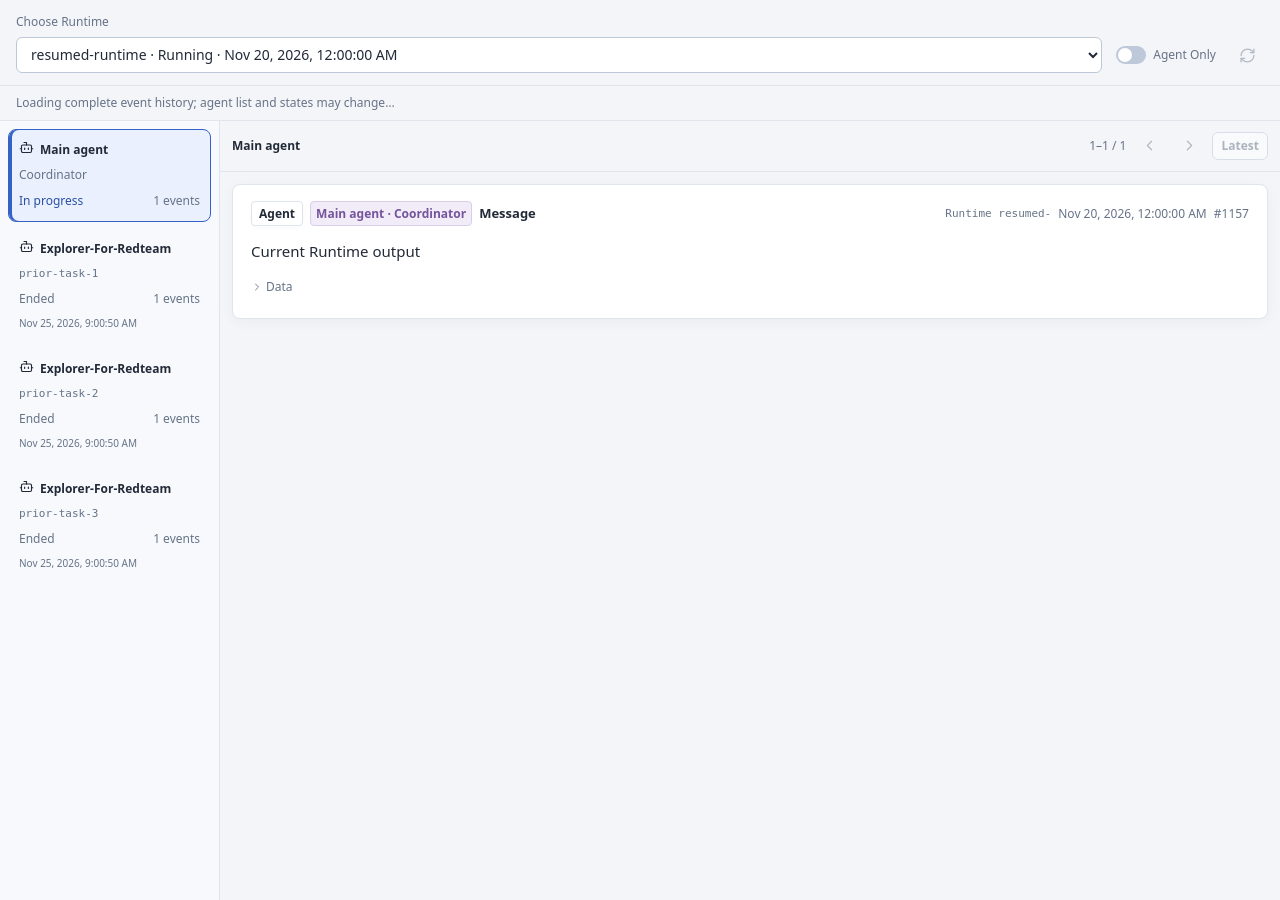
Test case: attributes resume cleanup notifications using cached/backfilled history (cached=true)
Expected: the text "Current Runtime output" is shown, x1=251 y1=241 x2=420 y2=261
Click the button "prior-task-1".
click(110, 285)  # box x1=8 y1=228 x2=211 y2=342
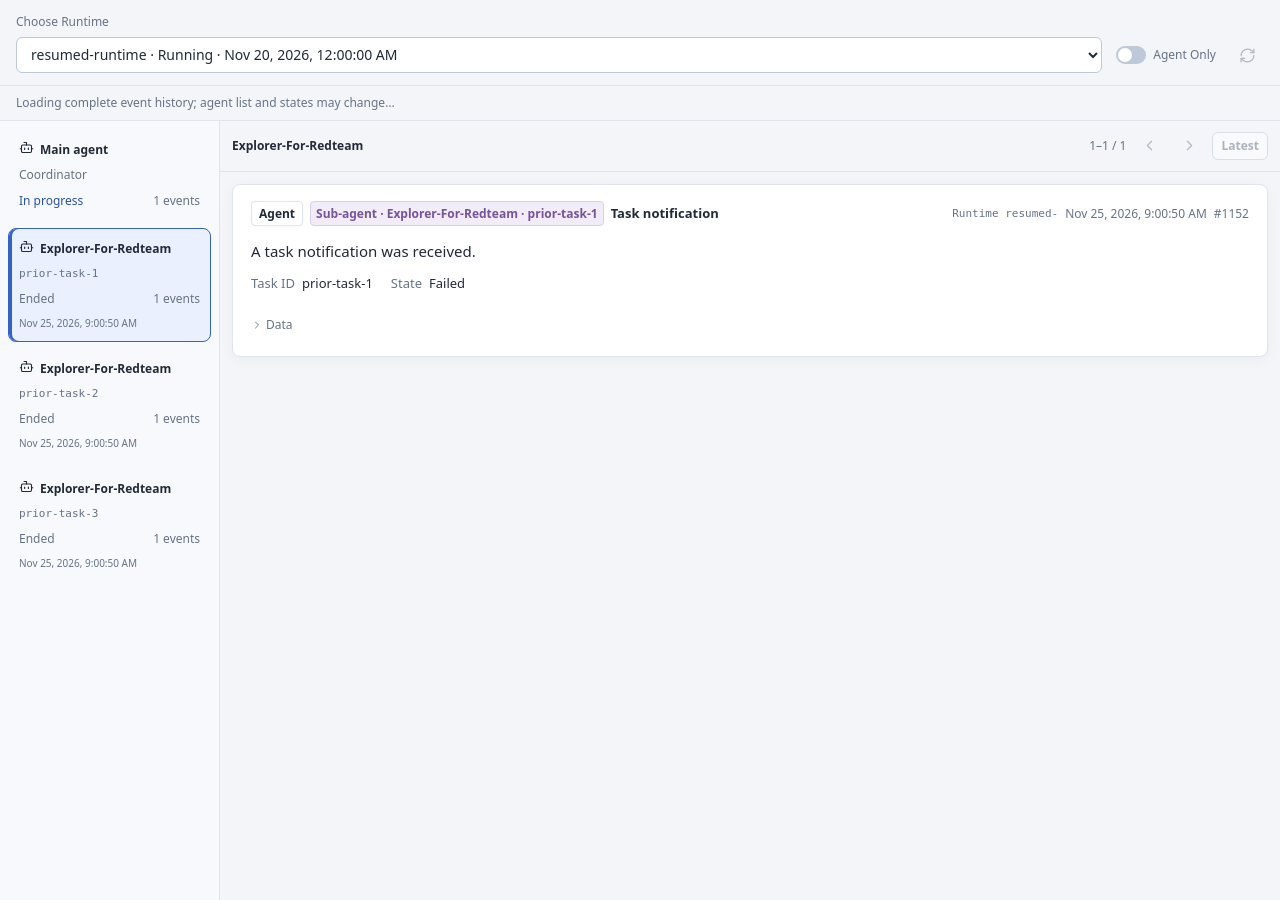
Expected: the number of elements with class "event-row" is 1, x1=232 y1=184 x2=1268 y2=357
Result: the text "Failed" is shown at x1=429 y1=272 x2=465 y2=294
Click the button "prior-task-2".
click(110, 405)  # box x1=8 y1=348 x2=211 y2=462
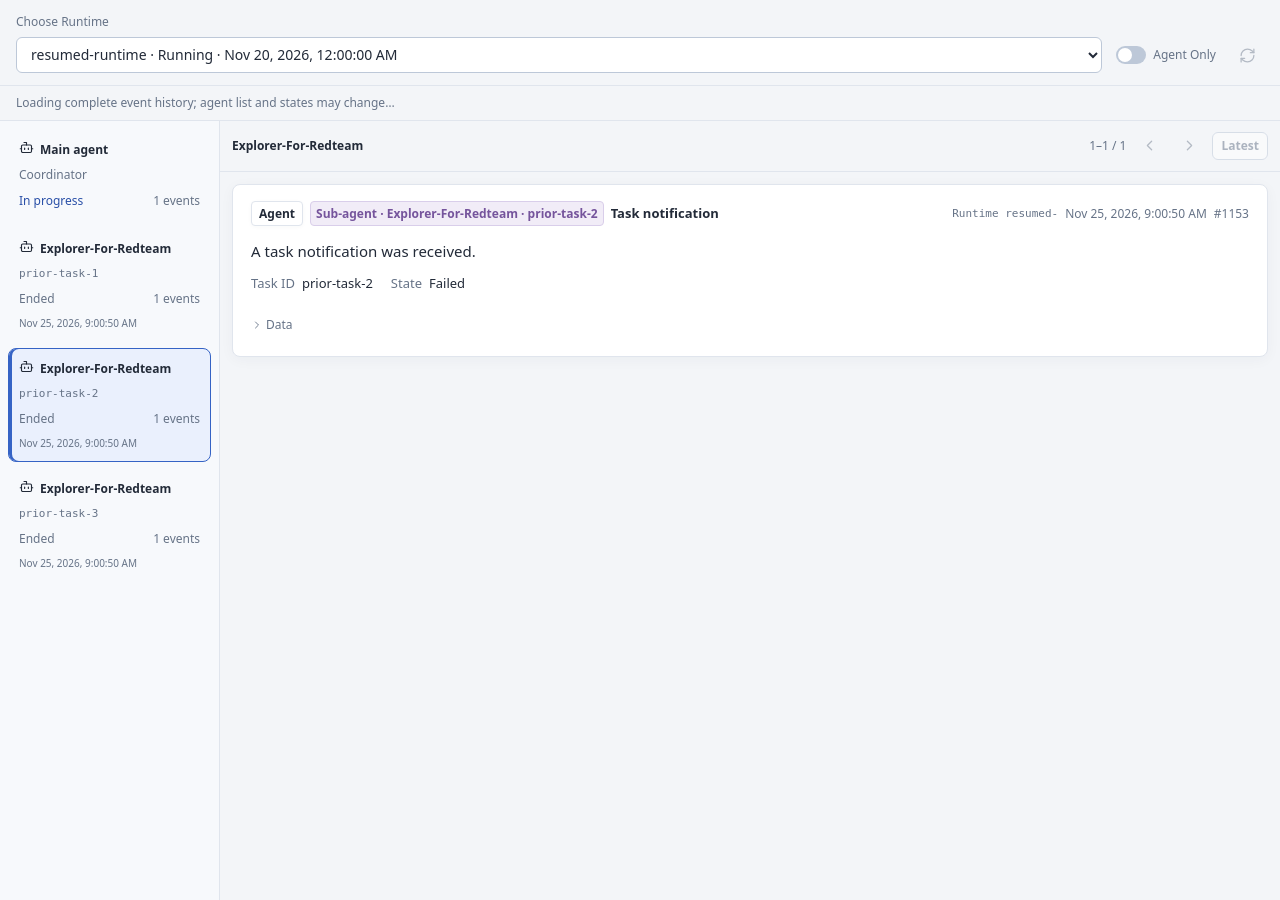
Expected: the number of elements with class "event-row" is 1, x1=232 y1=184 x2=1268 y2=357
Result: the text "Failed" is shown at x1=429 y1=272 x2=465 y2=294
Click the button "prior-task-3".
click(110, 526)  # box x1=8 y1=468 x2=211 y2=583
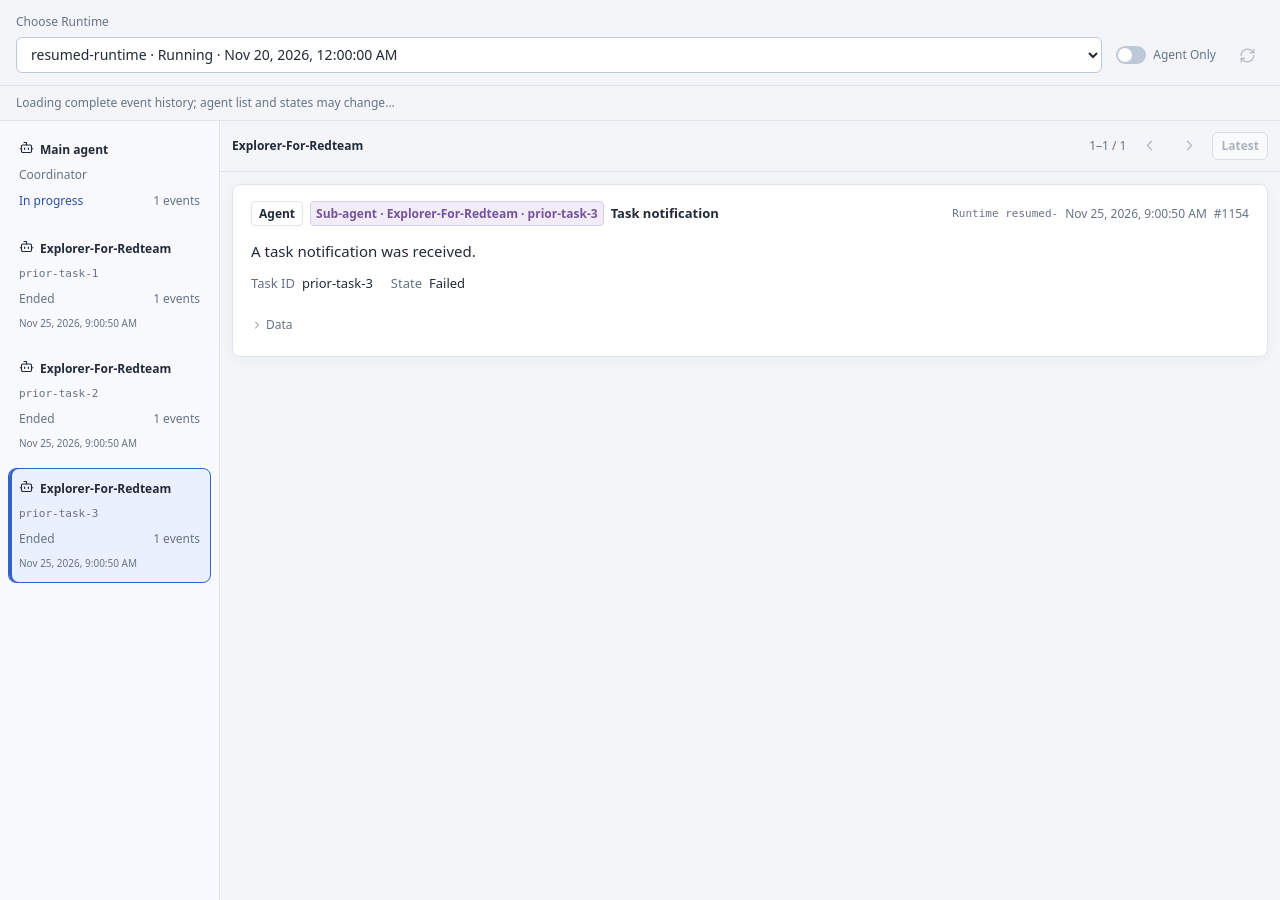
Expected: the number of elements with class "event-row" is 1, x1=232 y1=184 x2=1268 y2=357
Result: the text "Failed" is shown at x1=429 y1=272 x2=465 y2=294
Click the button "Main agent Coordinator In progress 1 events".
click(110, 175)  # box x1=8 y1=129 x2=211 y2=222
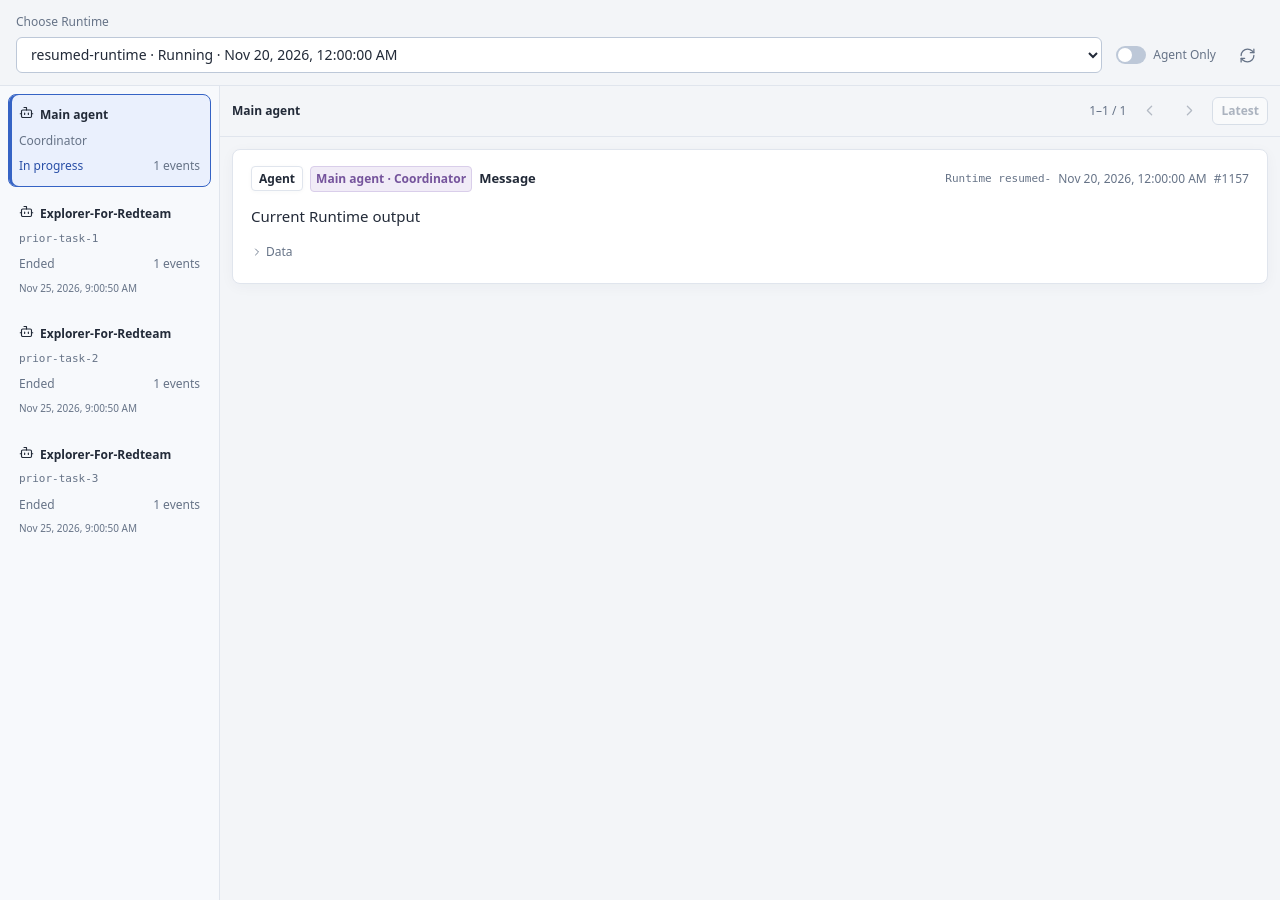
Result: the text "Current Runtime output" is shown at x1=251 y1=206 x2=420 y2=226
